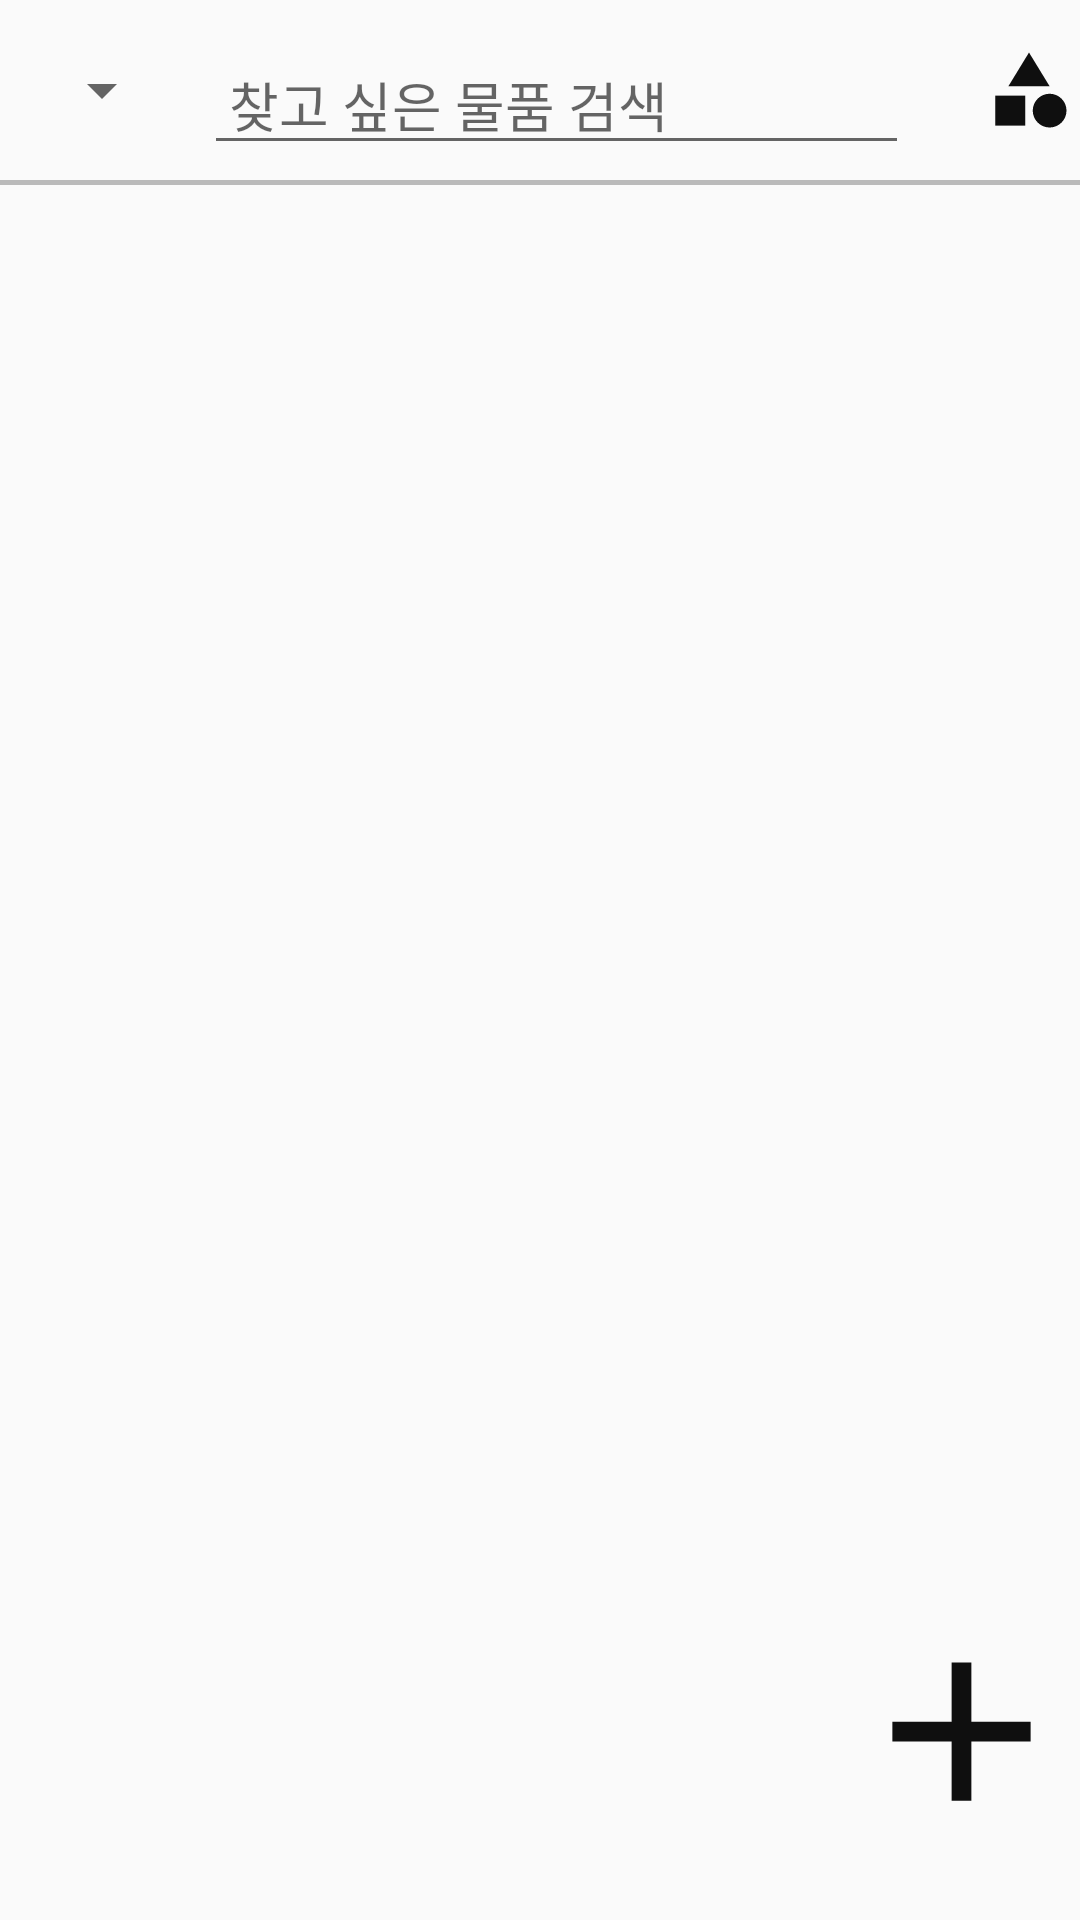

Locate icon controls on the screen. Image size 1080 x 1920, boxes as Rect(x1, y1, x2, y2).
add: Rect(892, 1662, 1031, 1801)
category: Rect(995, 53, 1067, 128)
